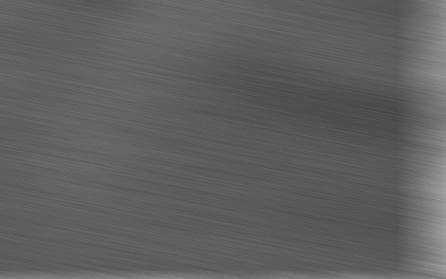Airbag: (0, 0, 445, 279), (426, 0, 446, 279), (0, 275, 445, 279), (426, 275, 446, 279)
